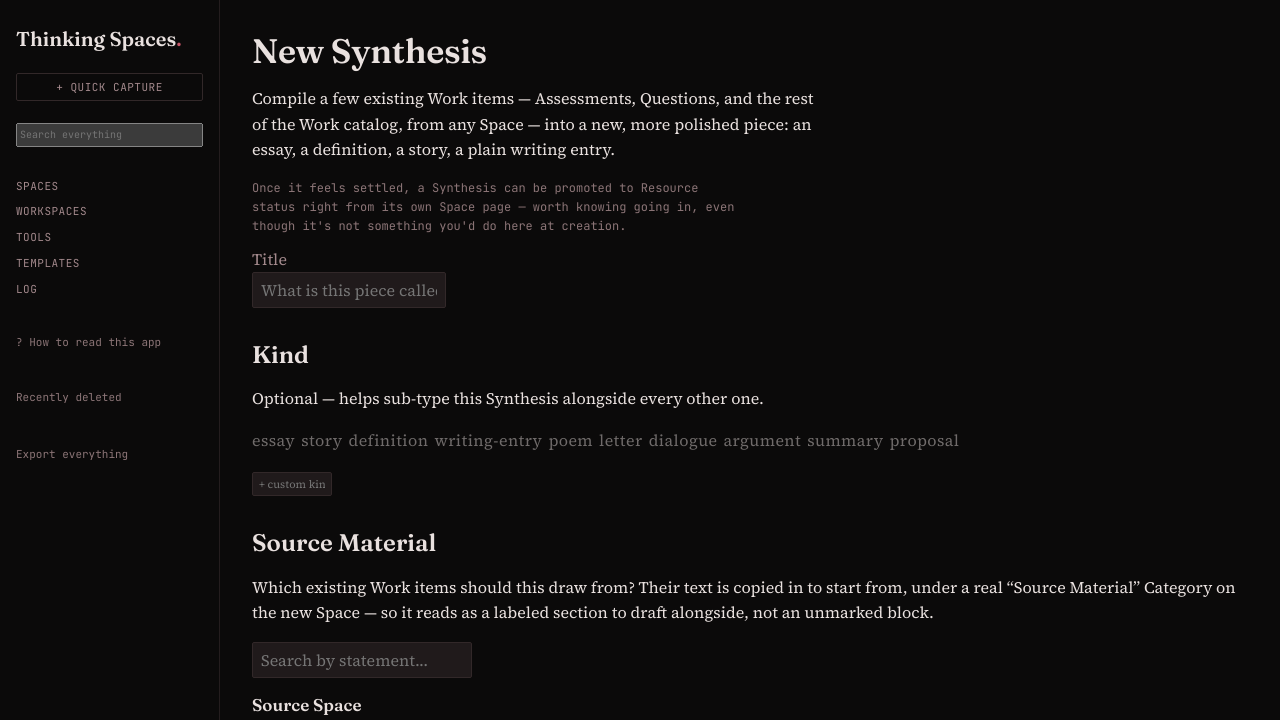
CreateSynthesis: source material picker › shows a "no matches" message when the search matches nothing
Type "zzz" into the field with placeholder "Search by statement..." at (362, 660), box [252, 642, 472, 678]
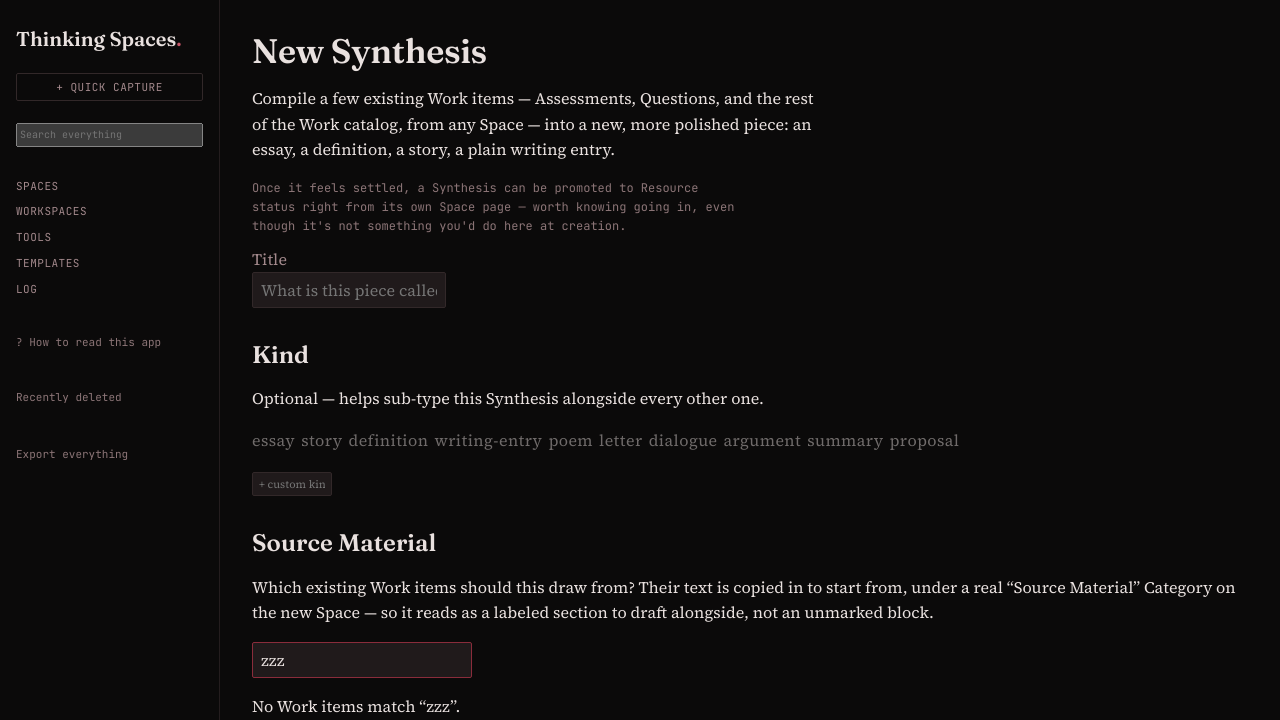
Expected: the text "No Work items match “zzz”." is shown, [252, 695, 460, 717]
